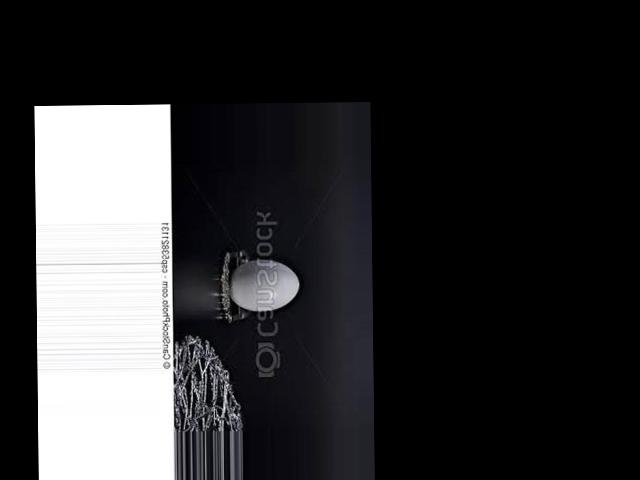egg: (228, 259, 299, 311)
